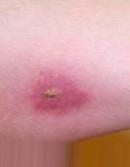Spider: (28, 68, 91, 116)
